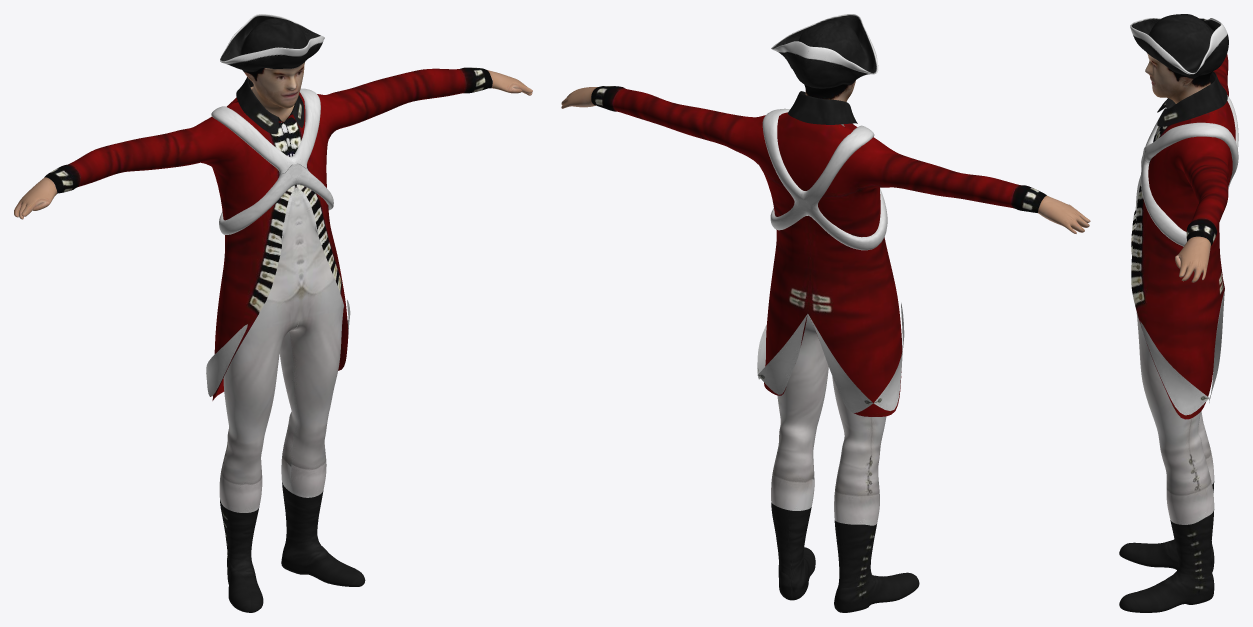
File: British Soldier OBJ.fbx
3 views of the same model, side by side, from view 1: azimuth 30°, elevation 25°; view 2: azimuth 150°, elevation 25°; view 3: azimuth 270°, elevation 25° (orthographic).
Parts seen in each view (by area): view 1: British_soldier_002; view 2: British_soldier_002; view 3: British_soldier_002.
Boxes of the visible parts, bbox=[...] form: British_soldier_002: bbox=[14, 14, 532, 612]; British_soldier_002: bbox=[561, 14, 1090, 612]; British_soldier_002: bbox=[1119, 14, 1238, 612].
Size of the model in its own units: 23.86 by 24.98 by 4.73.
1 material, 1 textured.
